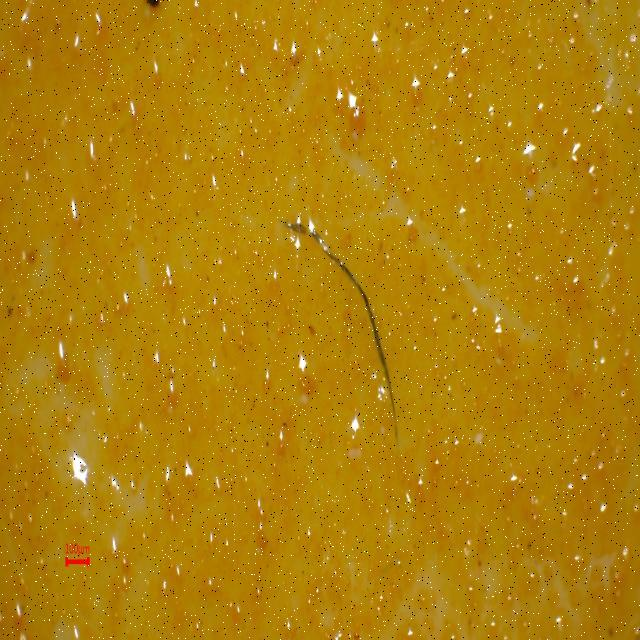fibers: (283, 203, 413, 455)
